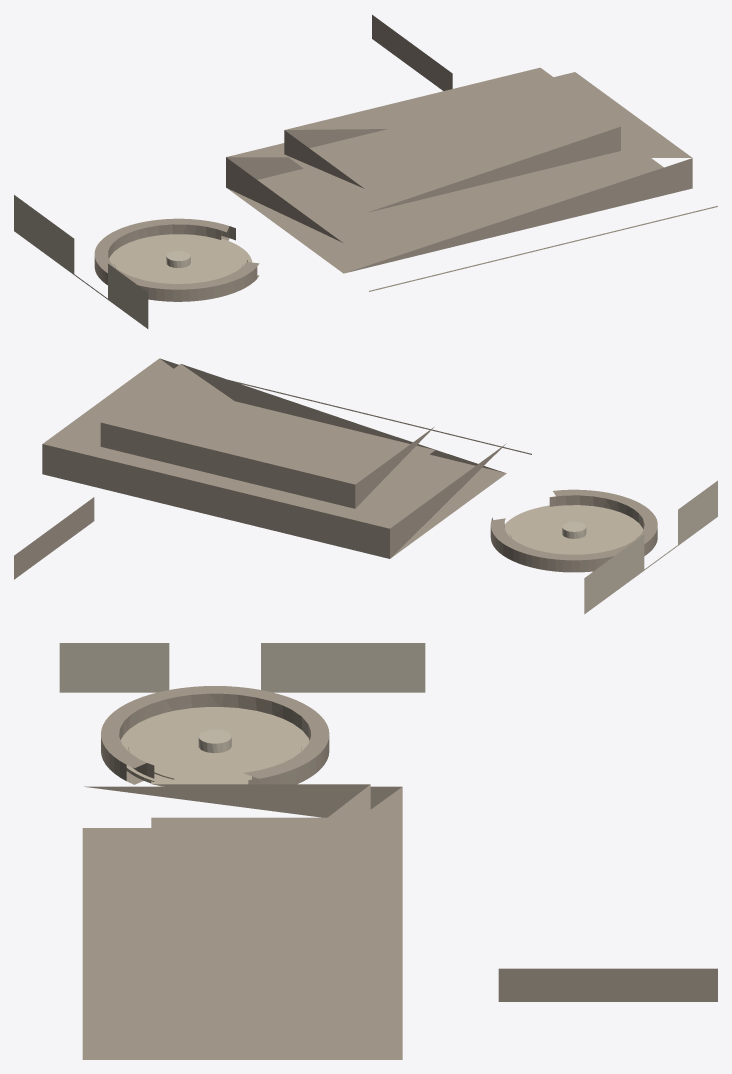
The model's file is chavin_edificio_a_lod0.glb.
3 renders of one model, top to bottom at view 1: azimuth 30°, elevation 25°; view 2: azimuth 150°, elevation 25°; view 3: azimuth 270°, elevation 25°, orthographic. The views are drawn at different scales.
Parts seen in each view (by area): view 1: chavin_edificio_a; view 2: chavin_edificio_a; view 3: chavin_edificio_a.
Part boxes in pixels (left/top/right/bottom): chavin_edificio_a: left=14, top=15, right=717, bottom=328; chavin_edificio_a: left=14, top=358, right=717, bottom=614; chavin_edificio_a: left=59, top=643, right=717, bottom=1059.
Size of the model in its own units: 95 by 9 by 77.
